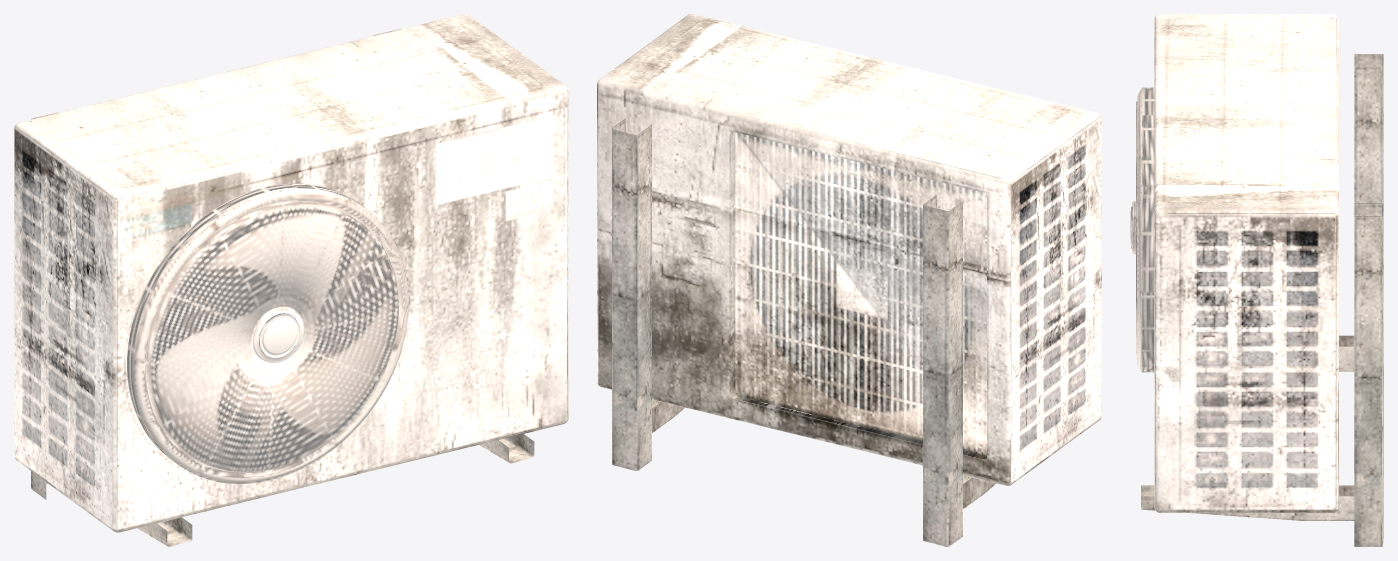
3 views of the same model, side by side, from view 1: azimuth 30°, elevation 25°; view 2: azimuth 150°, elevation 25°; view 3: azimuth 270°, elevation 25° (orthographic). The views are drawn at different scales.
Parts seen in each view (by area): view 1: E_AC_LOD0; view 2: E_AC_LOD0; view 3: E_AC_LOD0.
Boxes of the visible parts, x1=… form: E_AC_LOD0: x1=14, y1=14, x2=568, y2=546; E_AC_LOD0: x1=597, y1=14, x2=1101, y2=546; E_AC_LOD0: x1=1130, y1=14, x2=1383, y2=546.
Size of the model in its own units: 62.99 by 52.11 by 33.81.
Materials: 1 (1 with a texture image).
